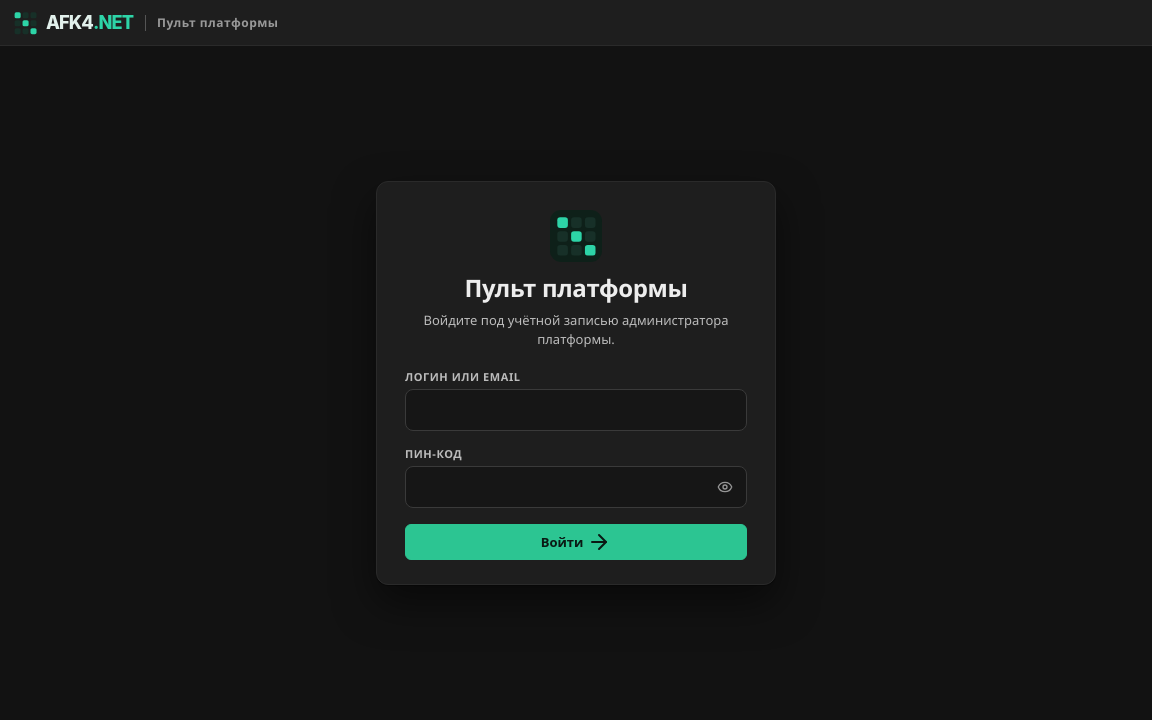
SignIn — отказы › запертую учётную запись называет ожиданием, а не неверным паролем
Type "owner@platform.test" into the field labelled "Логин или email". click: (576, 410)
box: top-left (405, 389), bottom-right (747, 431)
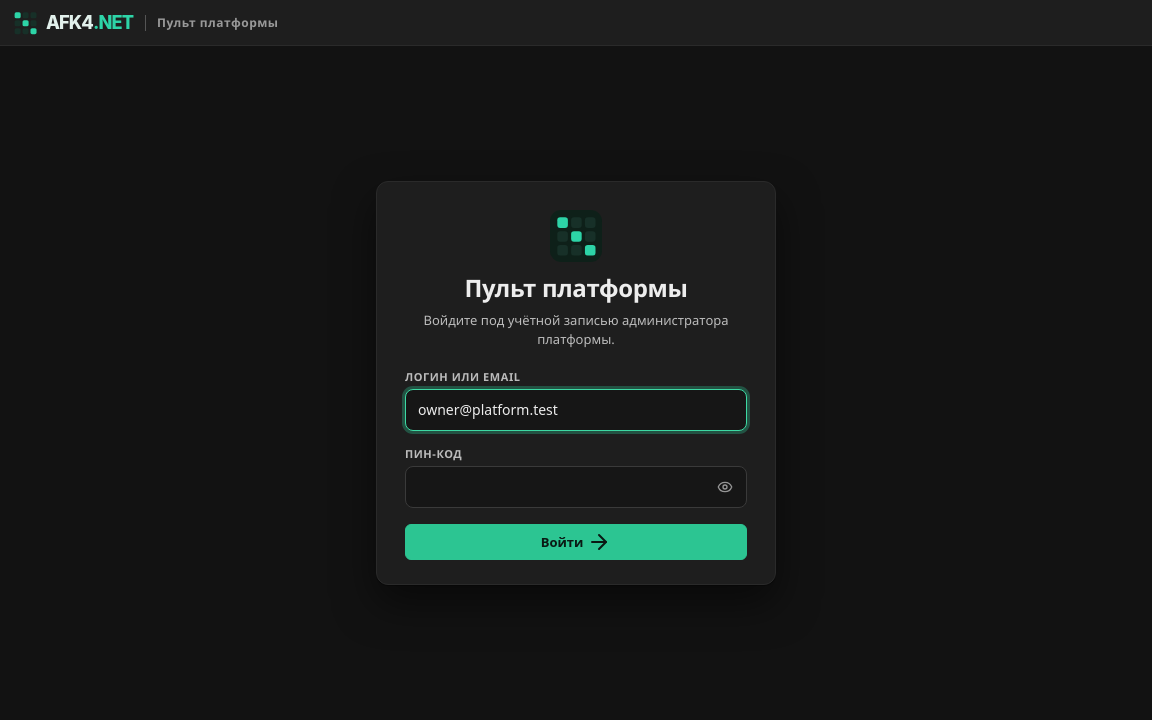
Type "111111" into the password field labelled "ПИН-код". click: (576, 487)
box: top-left (405, 466), bottom-right (747, 508)
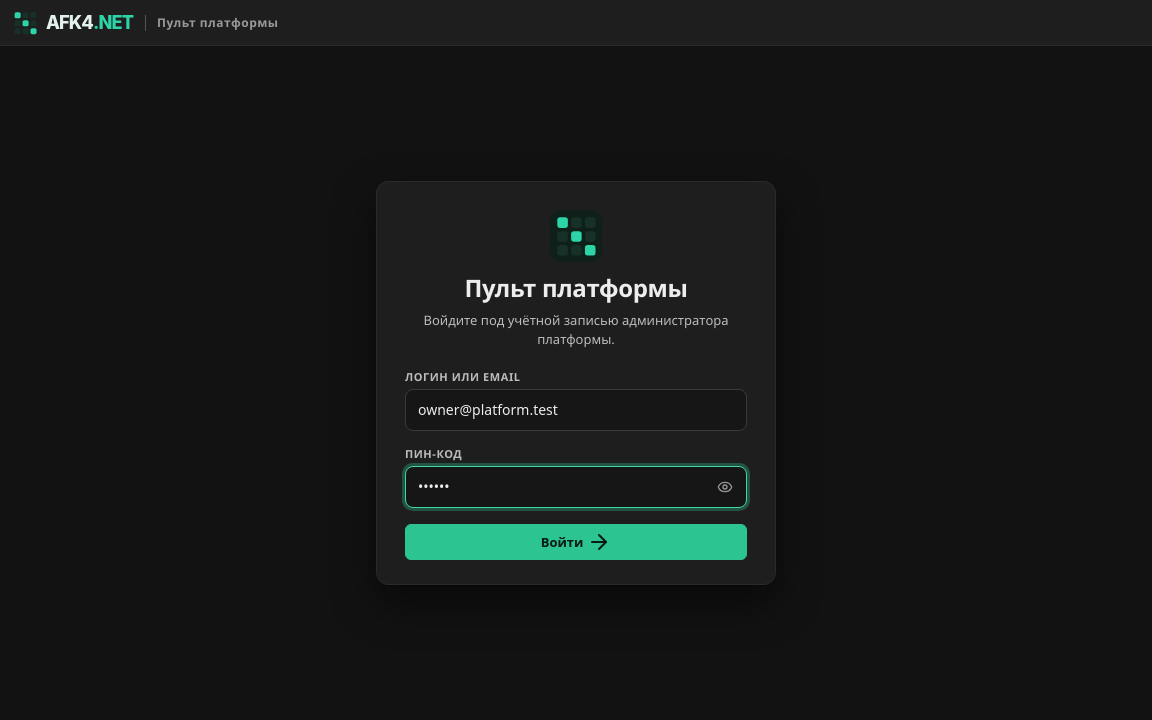
Click the button "Войти". click: (576, 542)
box: top-left (405, 524), bottom-right (747, 560)
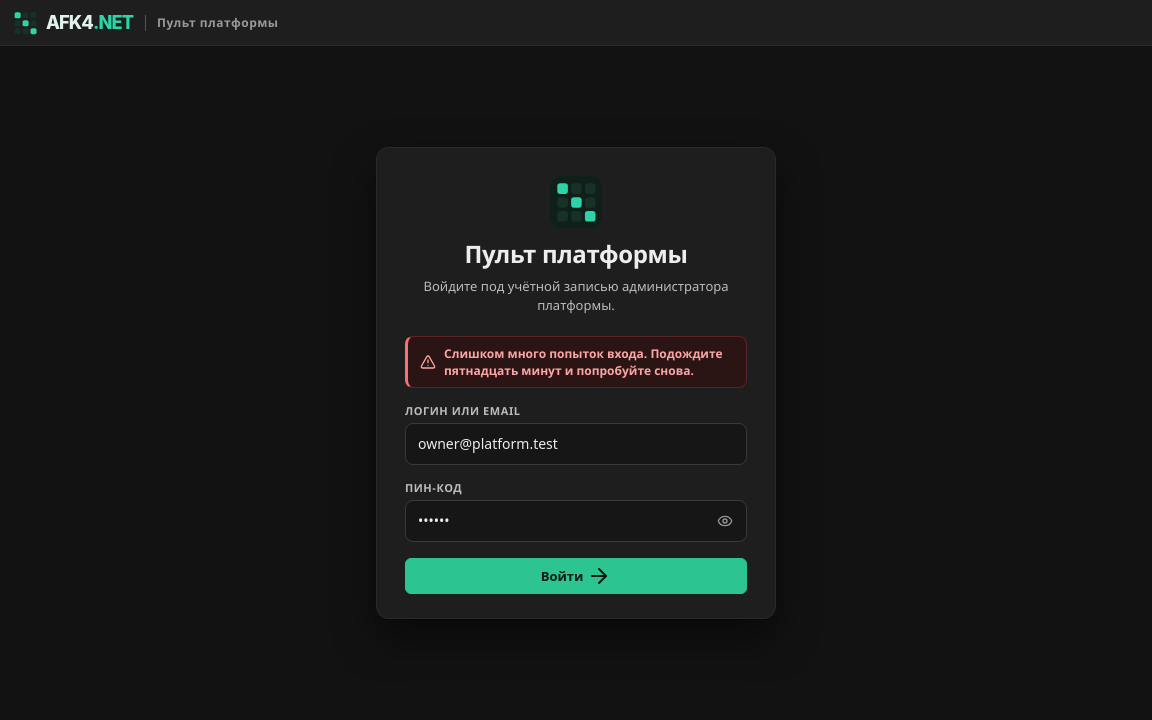
Expected: the message shows "Слишком много попыток", top-left (444, 345), bottom-right (723, 379)
